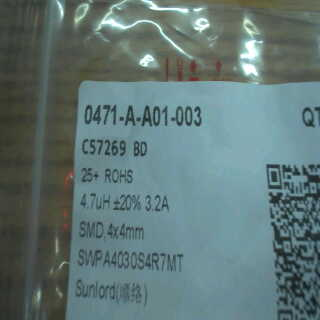4.7uH: (79, 193, 112, 213)
